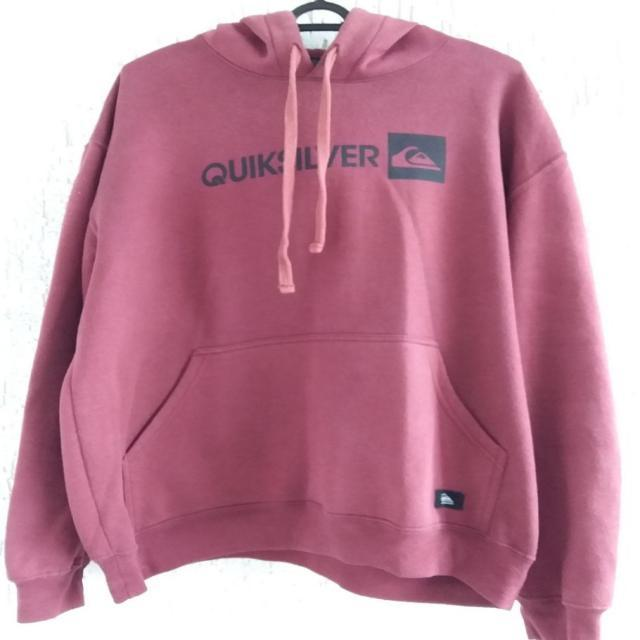sweater: (5, 6, 622, 640)
